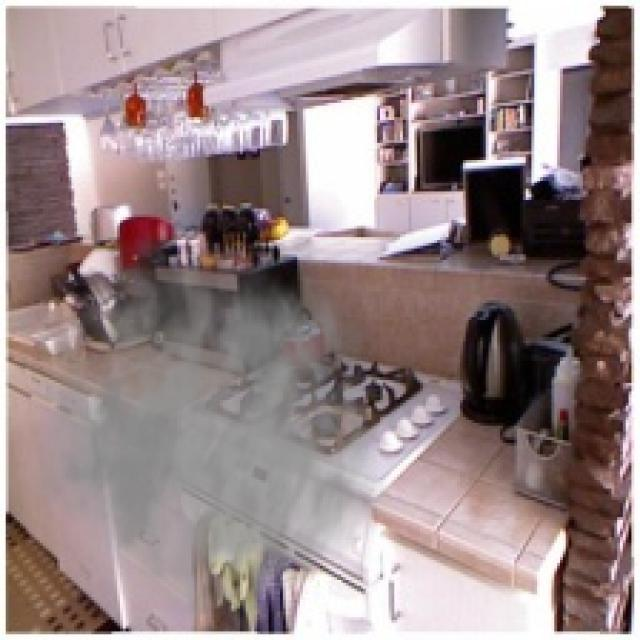smoke: (11, 214, 392, 620)
